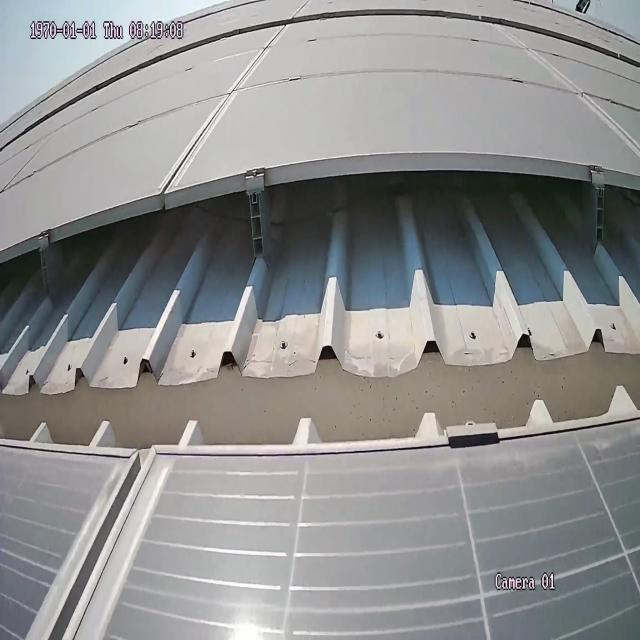interior panel: (23, 468, 171, 640), (163, 34, 284, 185), (505, 31, 640, 152)
outher panel: (1, 148, 639, 456)
